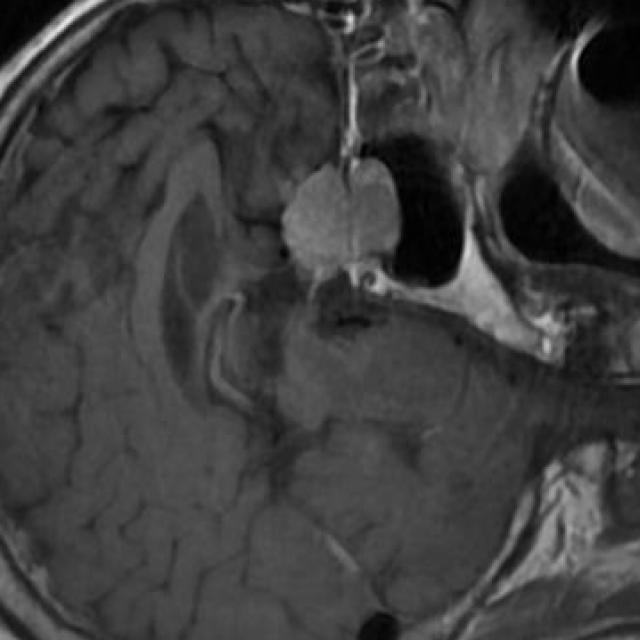pituitary: (282, 157, 401, 269)
